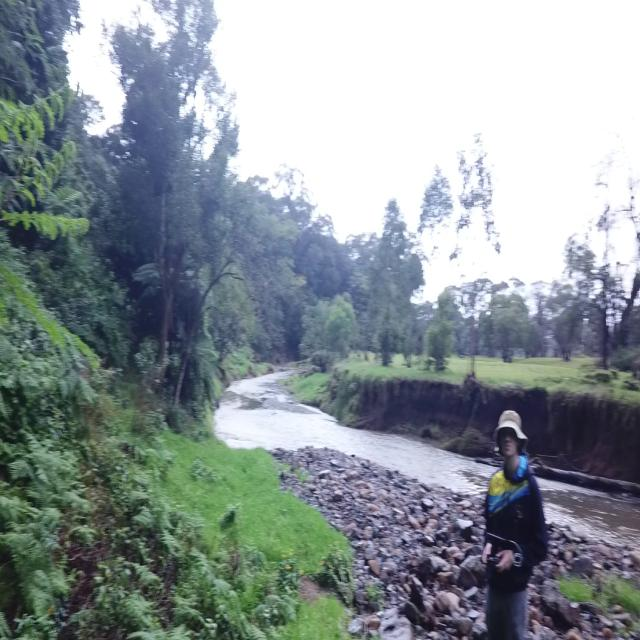Mysore-Thorn-Weed: (0, 71, 100, 402)
